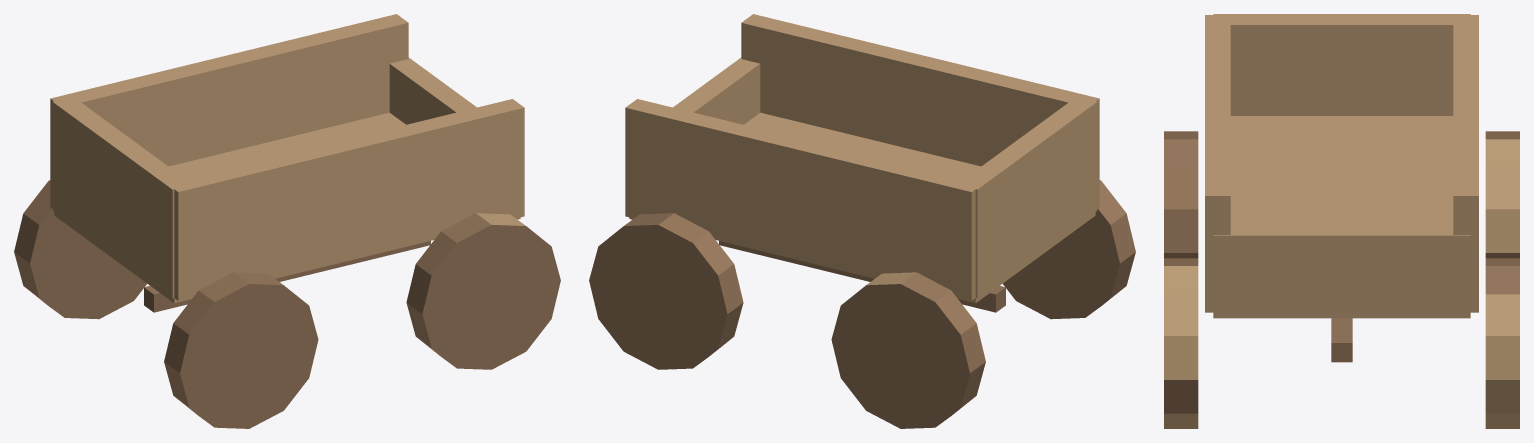
The model's file is PROP-cart-01.glb.
3 views of the same model, side by side, from view 1: azimuth 30°, elevation 25°; view 2: azimuth 150°, elevation 25°; view 3: azimuth 270°, elevation 25° (orthographic). The views are drawn at different scales.
Visible parts, largest first — view 1: PROP-cart-01; view 2: PROP-cart-01; view 3: PROP-cart-01.
Part boxes in pixels (box(x1,y1,x2,y2)): PROP-cart-01: box(14, 14, 560, 428); PROP-cart-01: box(589, 14, 1135, 428); PROP-cart-01: box(1164, 14, 1519, 428).
Size of the model in its own units: 2.2 by 1.3 by 1.66.
